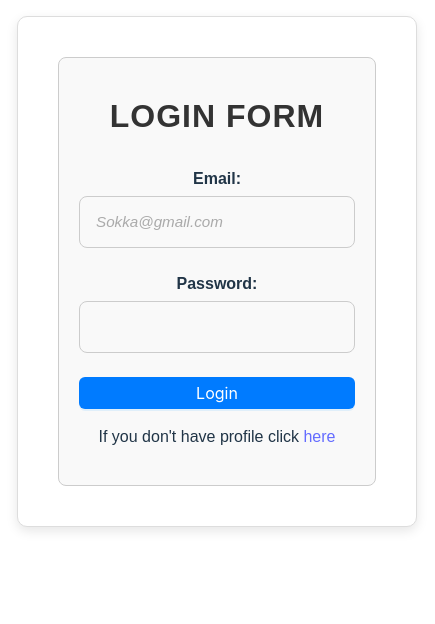
Test: LoginPage Component › shows validation errors when fields are empty
This screenshot has width=435, height=624.
// Click the login button without filling the form
Click the button "Login". click: (217, 393)
box: [79,377,355,409]
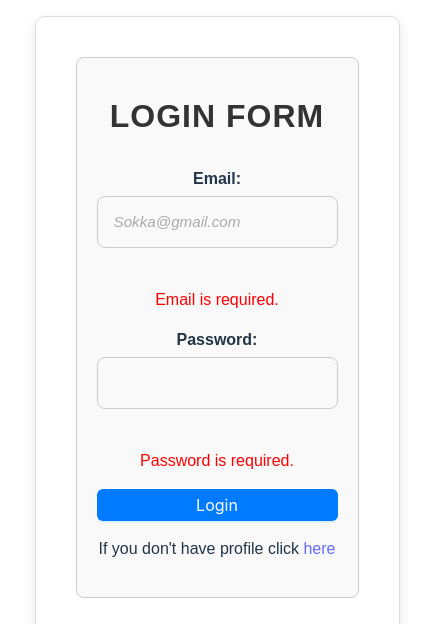
Check: the text "Email is required." is shown, box [155,291,279,308]
Check: the text "Password is required." is shown, box [140,452,294,469]
